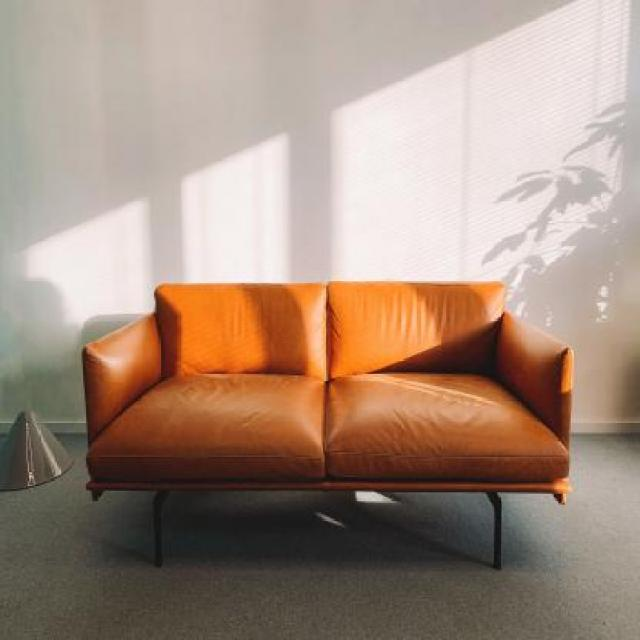Floor: (0, 433, 639, 640), (1, 433, 8, 446)
